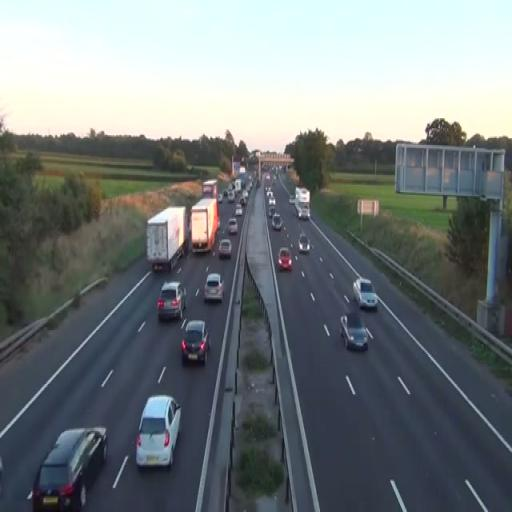Bus: (191, 197, 219, 252)
Car: (32, 425, 108, 511), (135, 395, 182, 470), (180, 320, 211, 366), (157, 281, 187, 322), (339, 313, 368, 351), (352, 277, 378, 310), (204, 272, 224, 304), (278, 248, 292, 272), (217, 239, 232, 260), (298, 232, 310, 254), (228, 218, 238, 234), (272, 214, 282, 230)
Truck: (146, 206, 188, 273), (191, 197, 219, 252), (294, 187, 310, 220)
